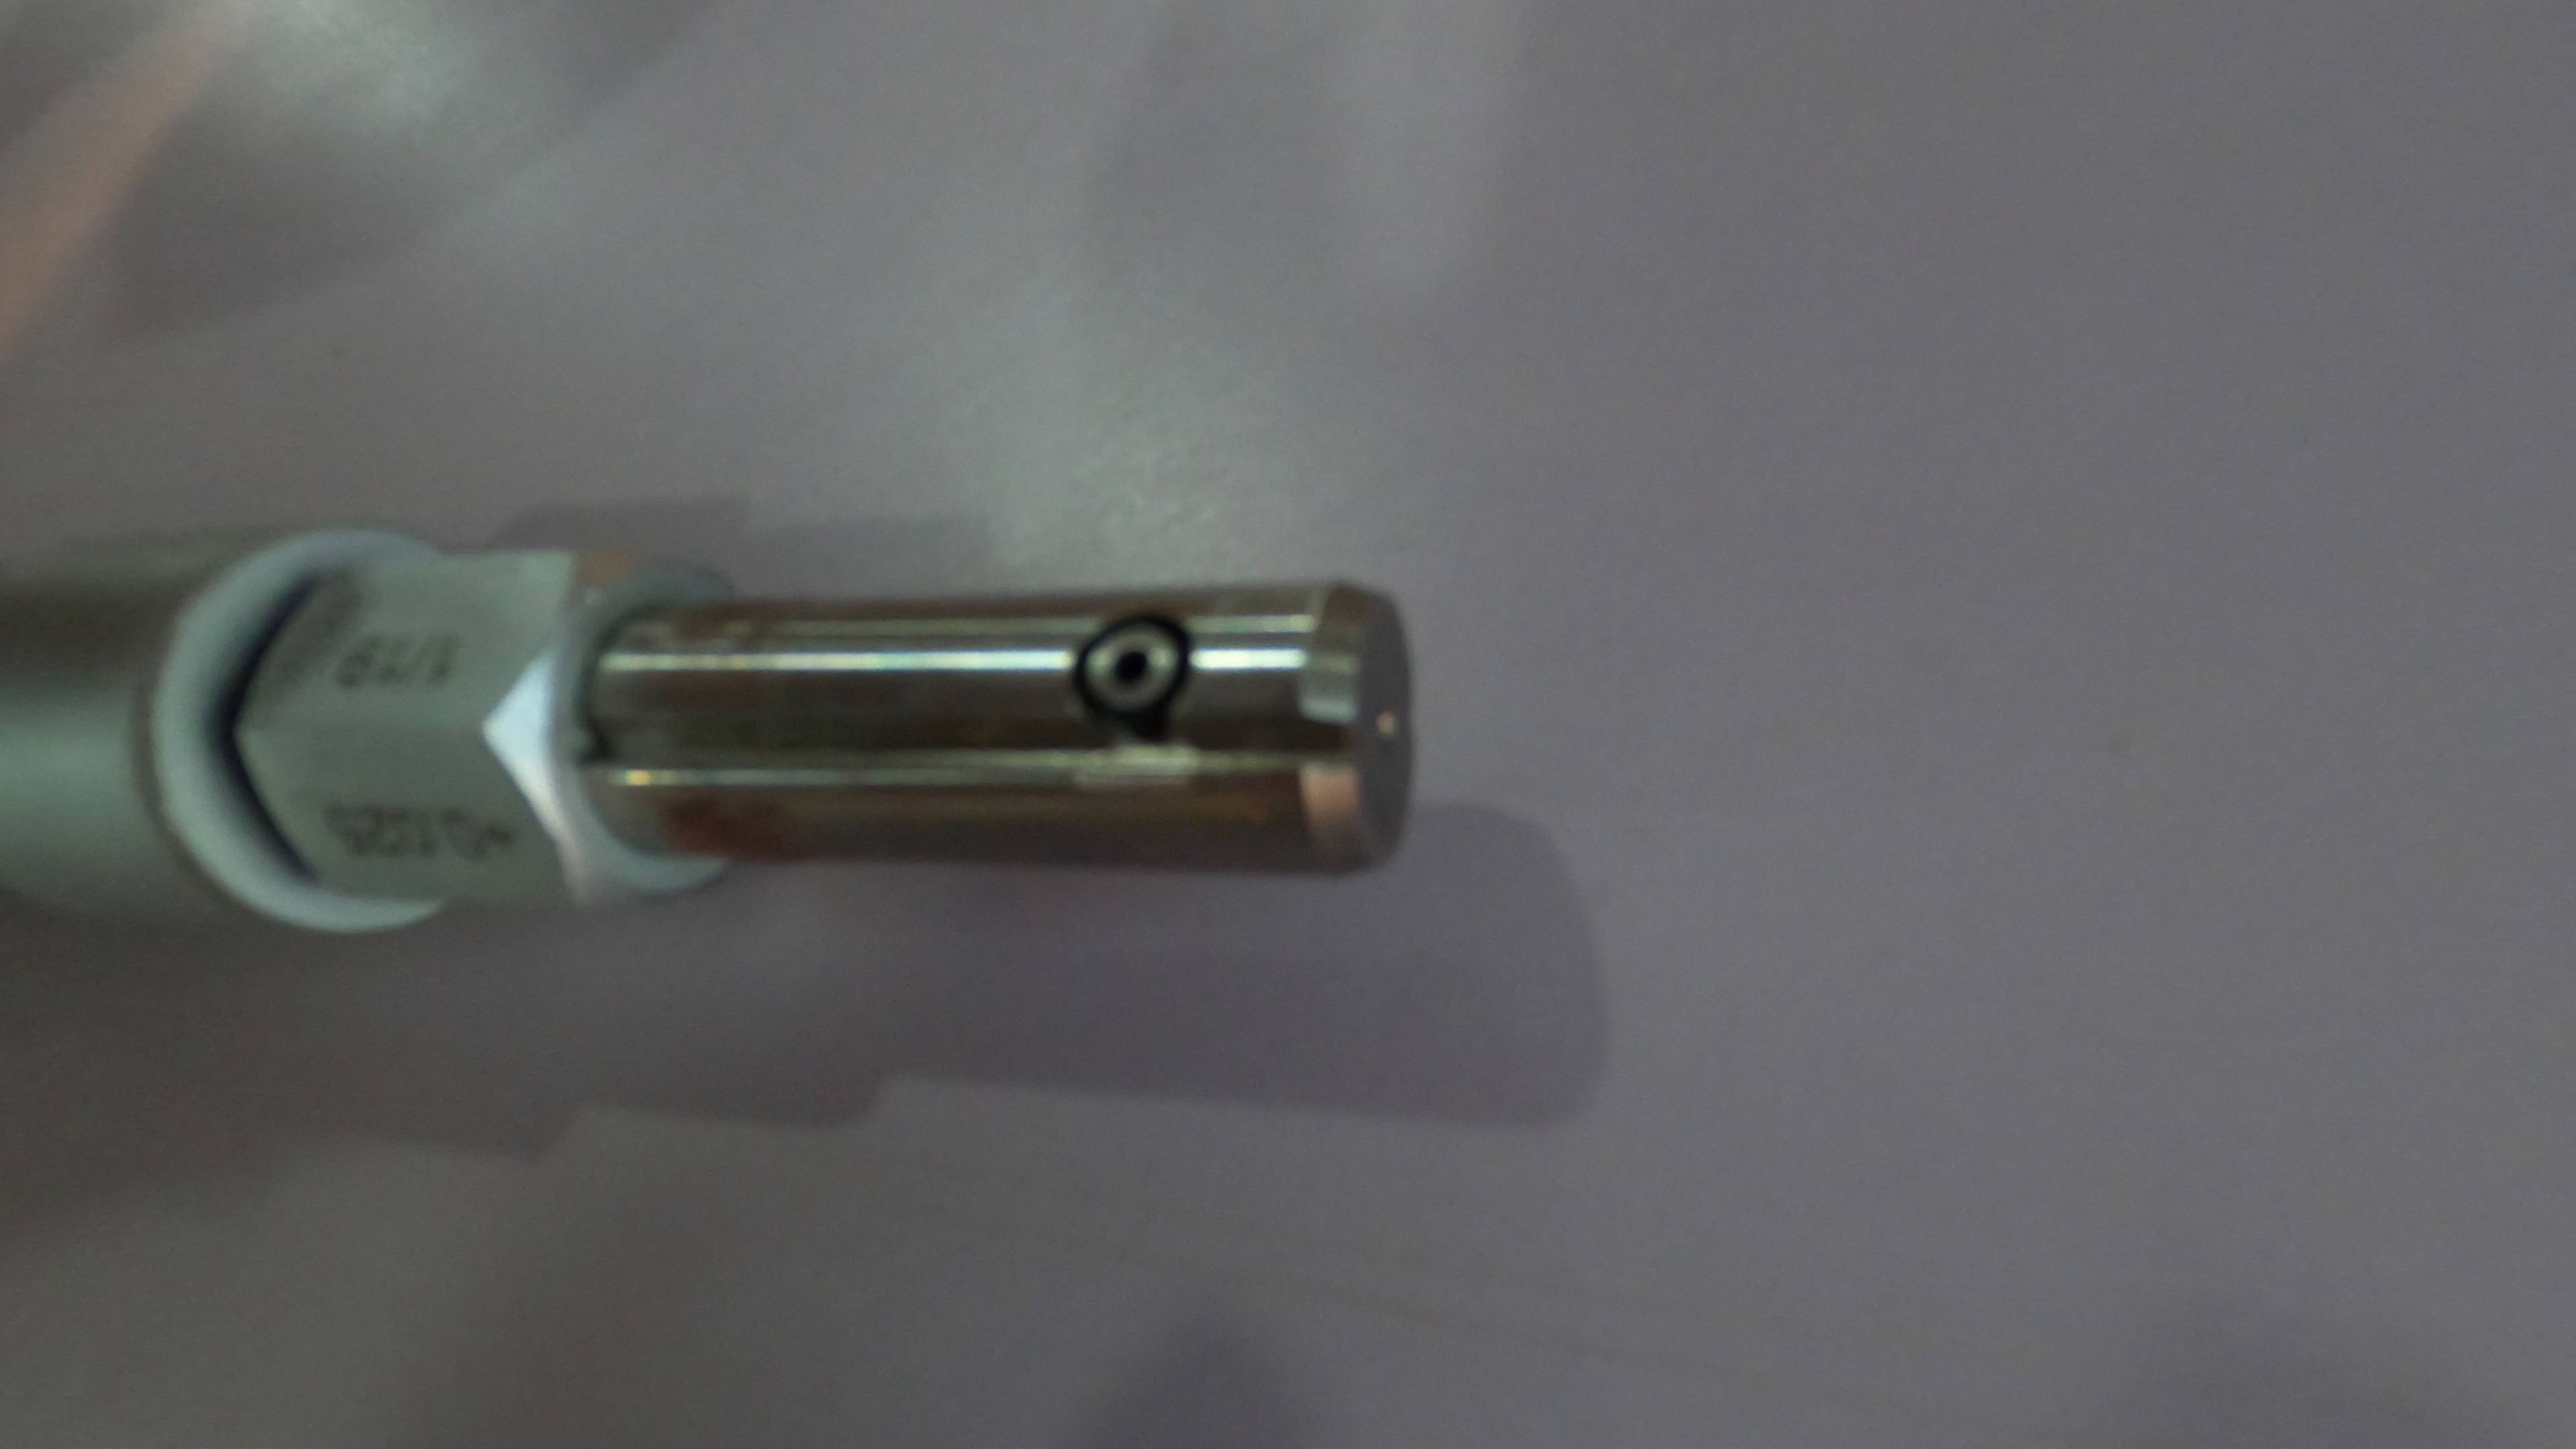air_gauge: (9, 522, 1415, 938)
